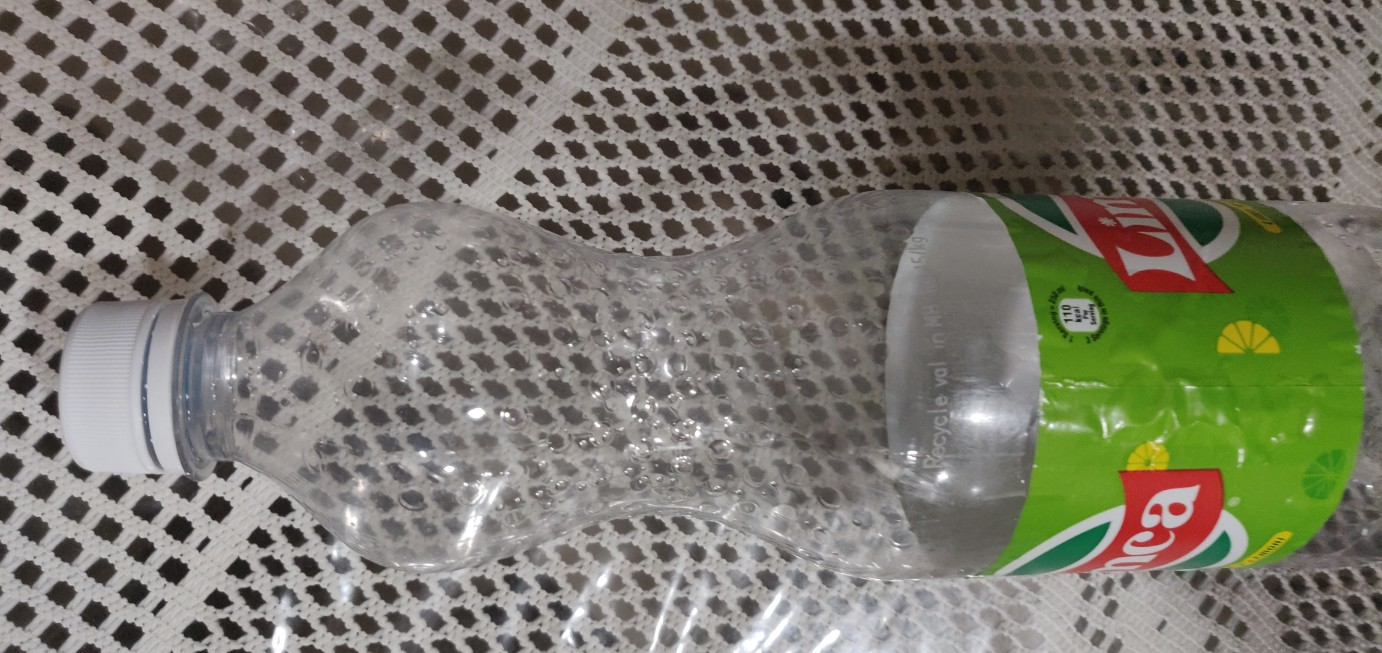Electronics: (41, 162, 1376, 608)
